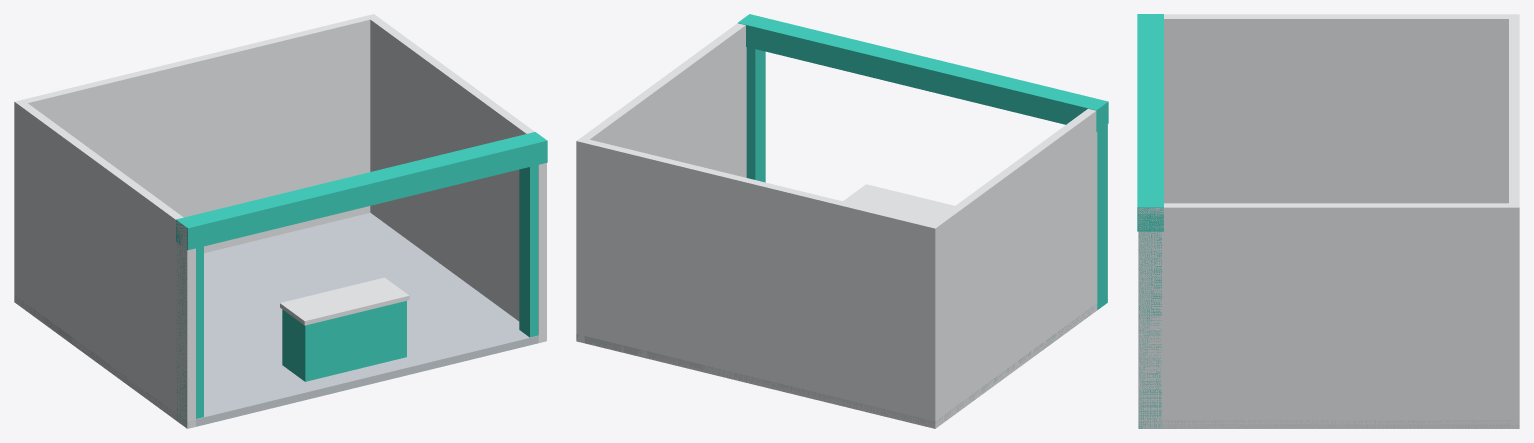
3 renders of one model, left to right at view 1: azimuth 30°, elevation 25°; view 2: azimuth 150°, elevation 25°; view 3: azimuth 270°, elevation 25°, orthographic. The views are drawn at different scales.
Parts seen in each view (by area): view 1: Exhibition Booth Concept; view 2: Exhibition Booth Concept; view 3: Exhibition Booth Concept.
Part boxes in pixels (<box>): Exhibition Booth Concept: <box>14,14,547,428</box>; Exhibition Booth Concept: <box>576,14,1108,428</box>; Exhibition Booth Concept: <box>1137,14,1519,428</box>.
Size of the model in its own units: 6 by 3.2 by 5.02.
